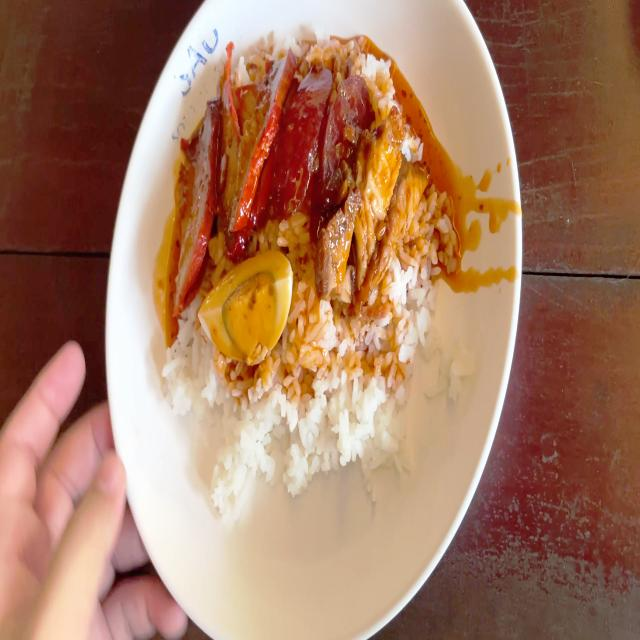boiled_egg: (202, 250, 290, 356)
chainese_sausage: (278, 67, 368, 207)
crispy_pork: (332, 126, 429, 295)
red_pork: (171, 51, 290, 275)
red_pork_and_crispy_pork: (169, 45, 442, 489)
rice: (291, 302, 422, 465), (171, 364, 290, 512)
